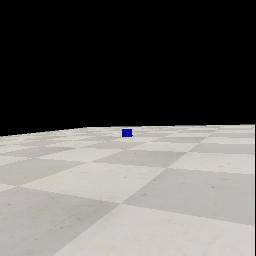box: (122, 129, 133, 137)
